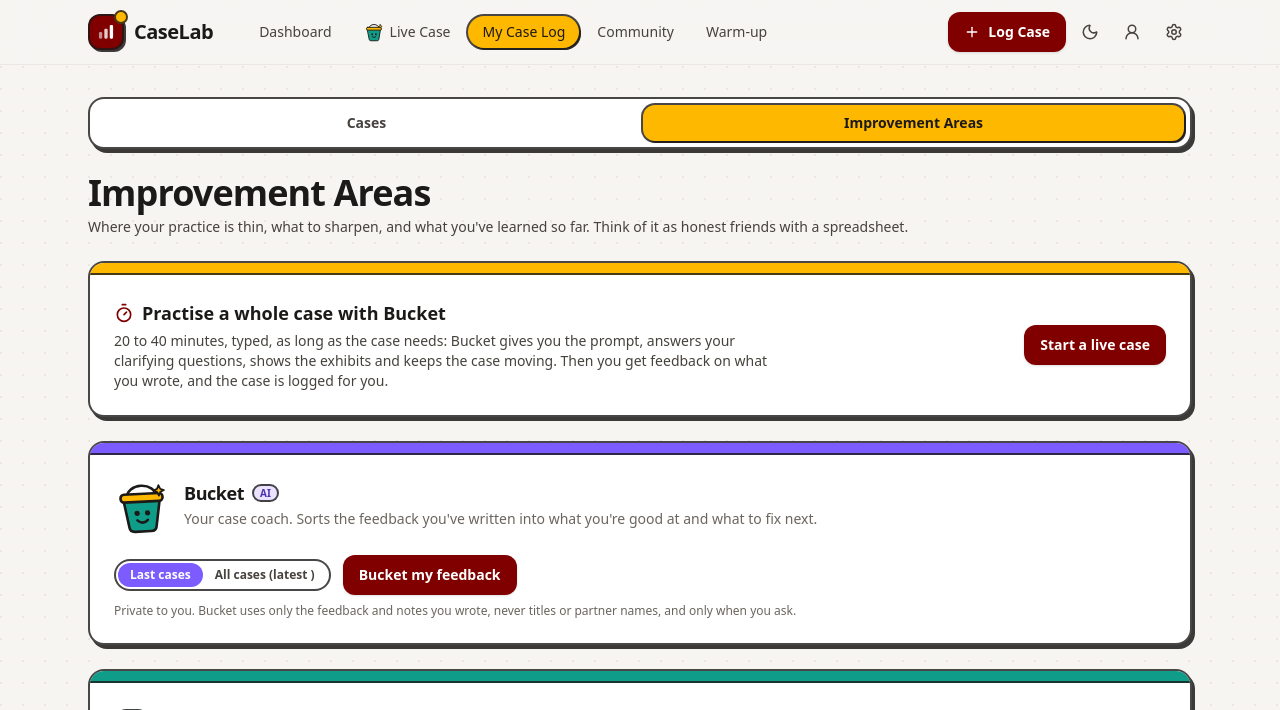
Test: Bucket, the coach › says so when the coach could not be reached
Expected: the heading "Improvement Areas" is shown, [88,168,430,217]
Click the button "Bucket my feedback" at (430, 575), box [343,555,517,595]
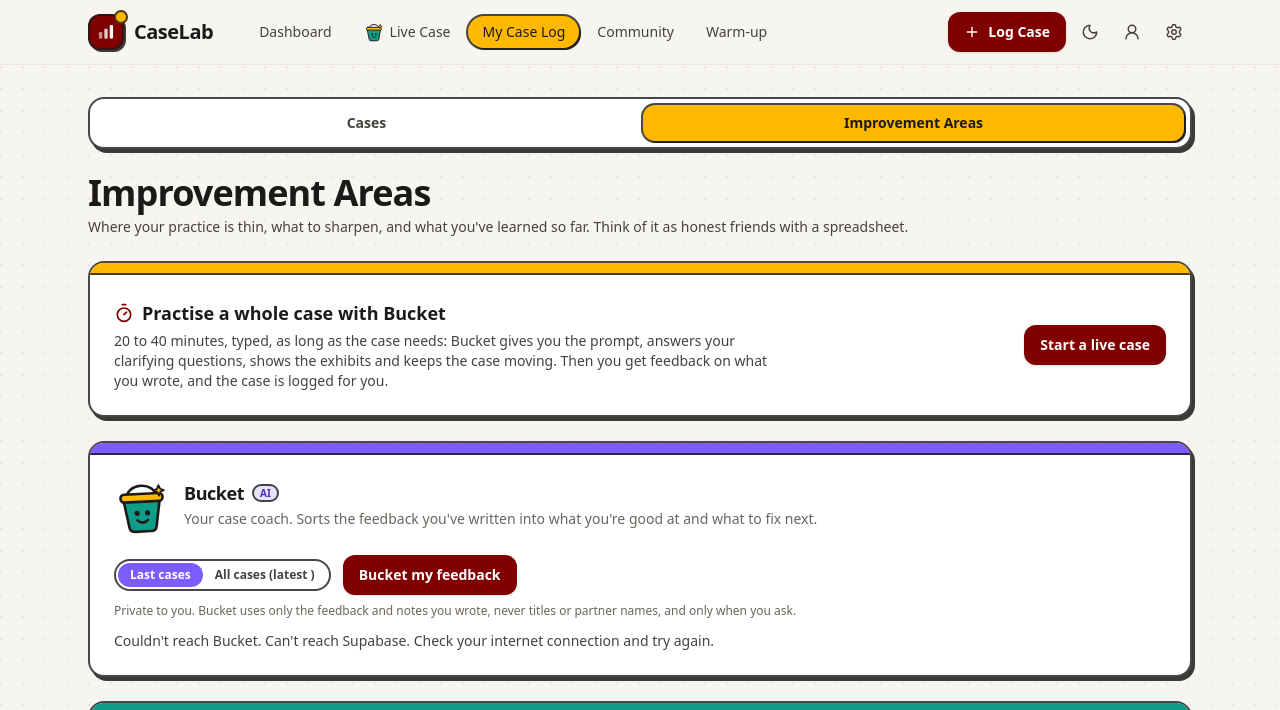
Expected: the text "Couldn't reach Bucket" is shown, [114,631,714,650]
